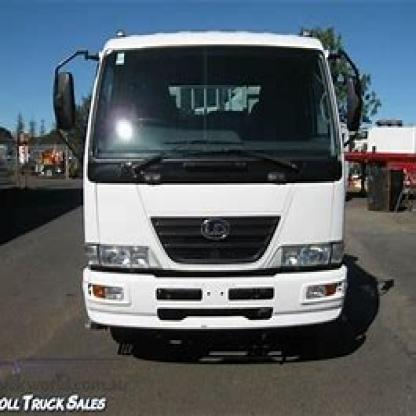dump_truck: (67, 17, 369, 382)
